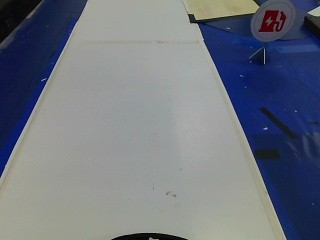battery: (248, 3, 294, 42)
